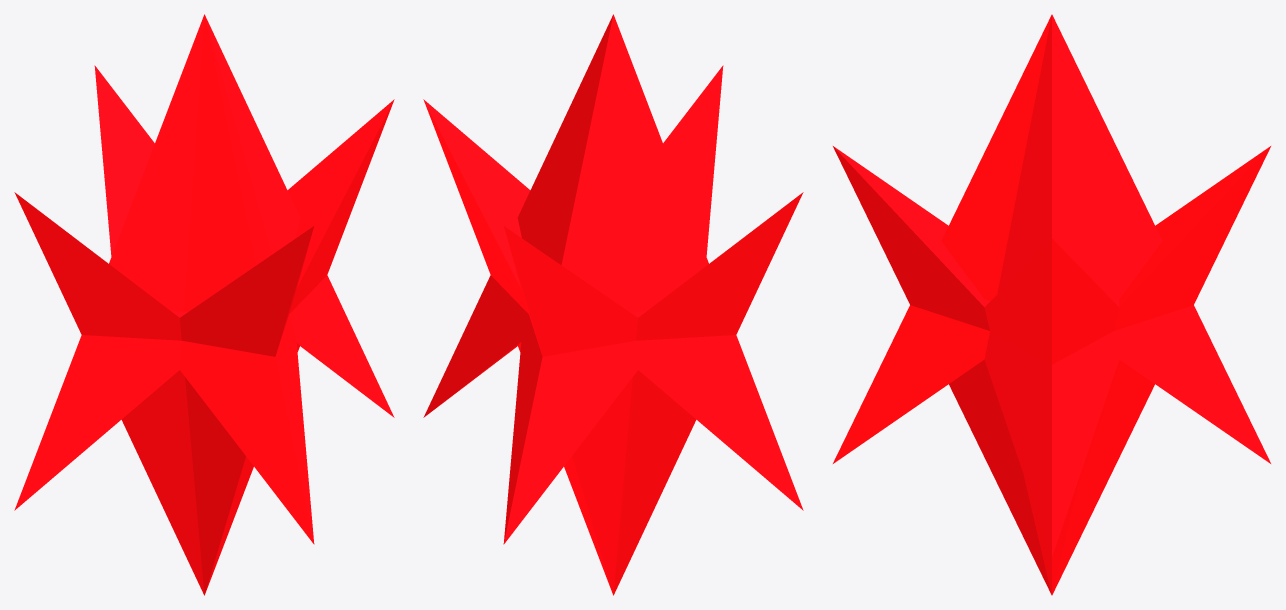
The model's file is redpawn.fbx.
3 renders of one model, left to right at view 1: azimuth 30°, elevation 25°; view 2: azimuth 150°, elevation 25°; view 3: azimuth 270°, elevation 25°, orthographic.
Visible parts, largest first — view 1: Cone; view 2: Cone; view 3: Cone.
Part boxes in pixels (x1,y1,x2,y2): Cone: (14, 14, 394, 595); Cone: (423, 14, 803, 595); Cone: (833, 14, 1270, 595).
Size of the model in its own units: 226 by 331 by 226.
